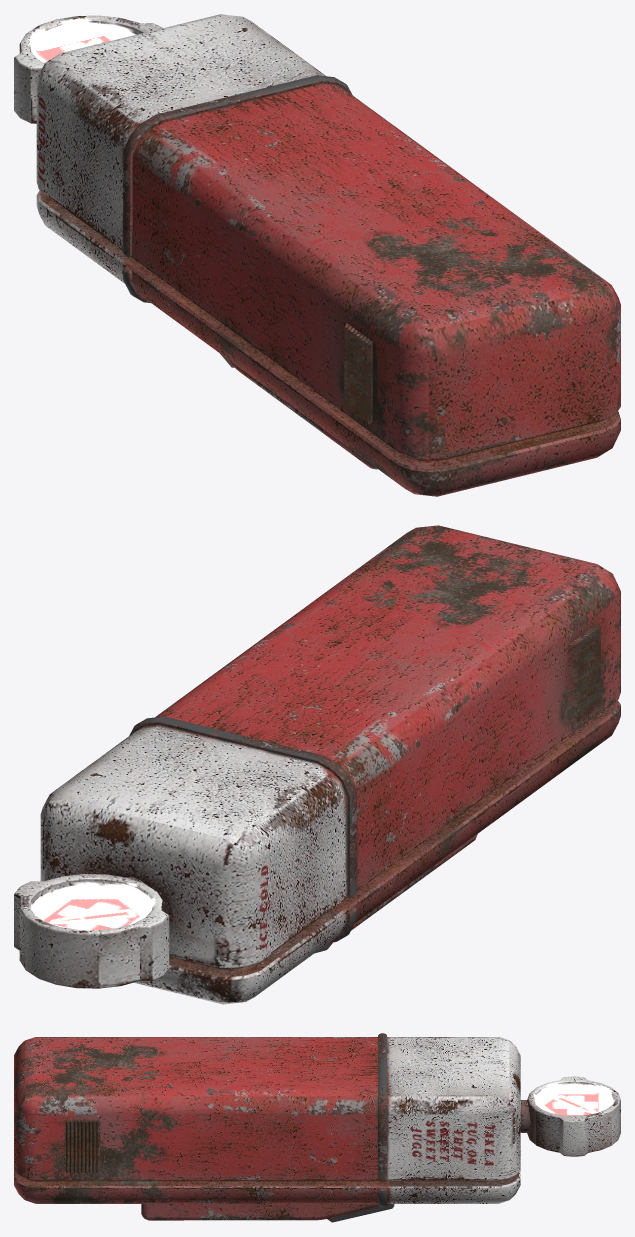
The model's file is juggernog.fbx.
3 views of the same model, one above another, from view 1: azimuth 30°, elevation 25°; view 2: azimuth 150°, elevation 25°; view 3: azimuth 270°, elevation 25° (orthographic). The views are drawn at different scales.
Visible parts, largest first — view 1: pCylinder3; view 2: pCylinder3; view 3: pCylinder3.
Boxes of the visible parts, bbox=[...] form: pCylinder3: bbox=[14, 14, 620, 496]; pCylinder3: bbox=[14, 525, 620, 1004]; pCylinder3: bbox=[14, 1033, 620, 1222].
Bounding box in the file's own units: 56.52 × 54.71 × 200.
